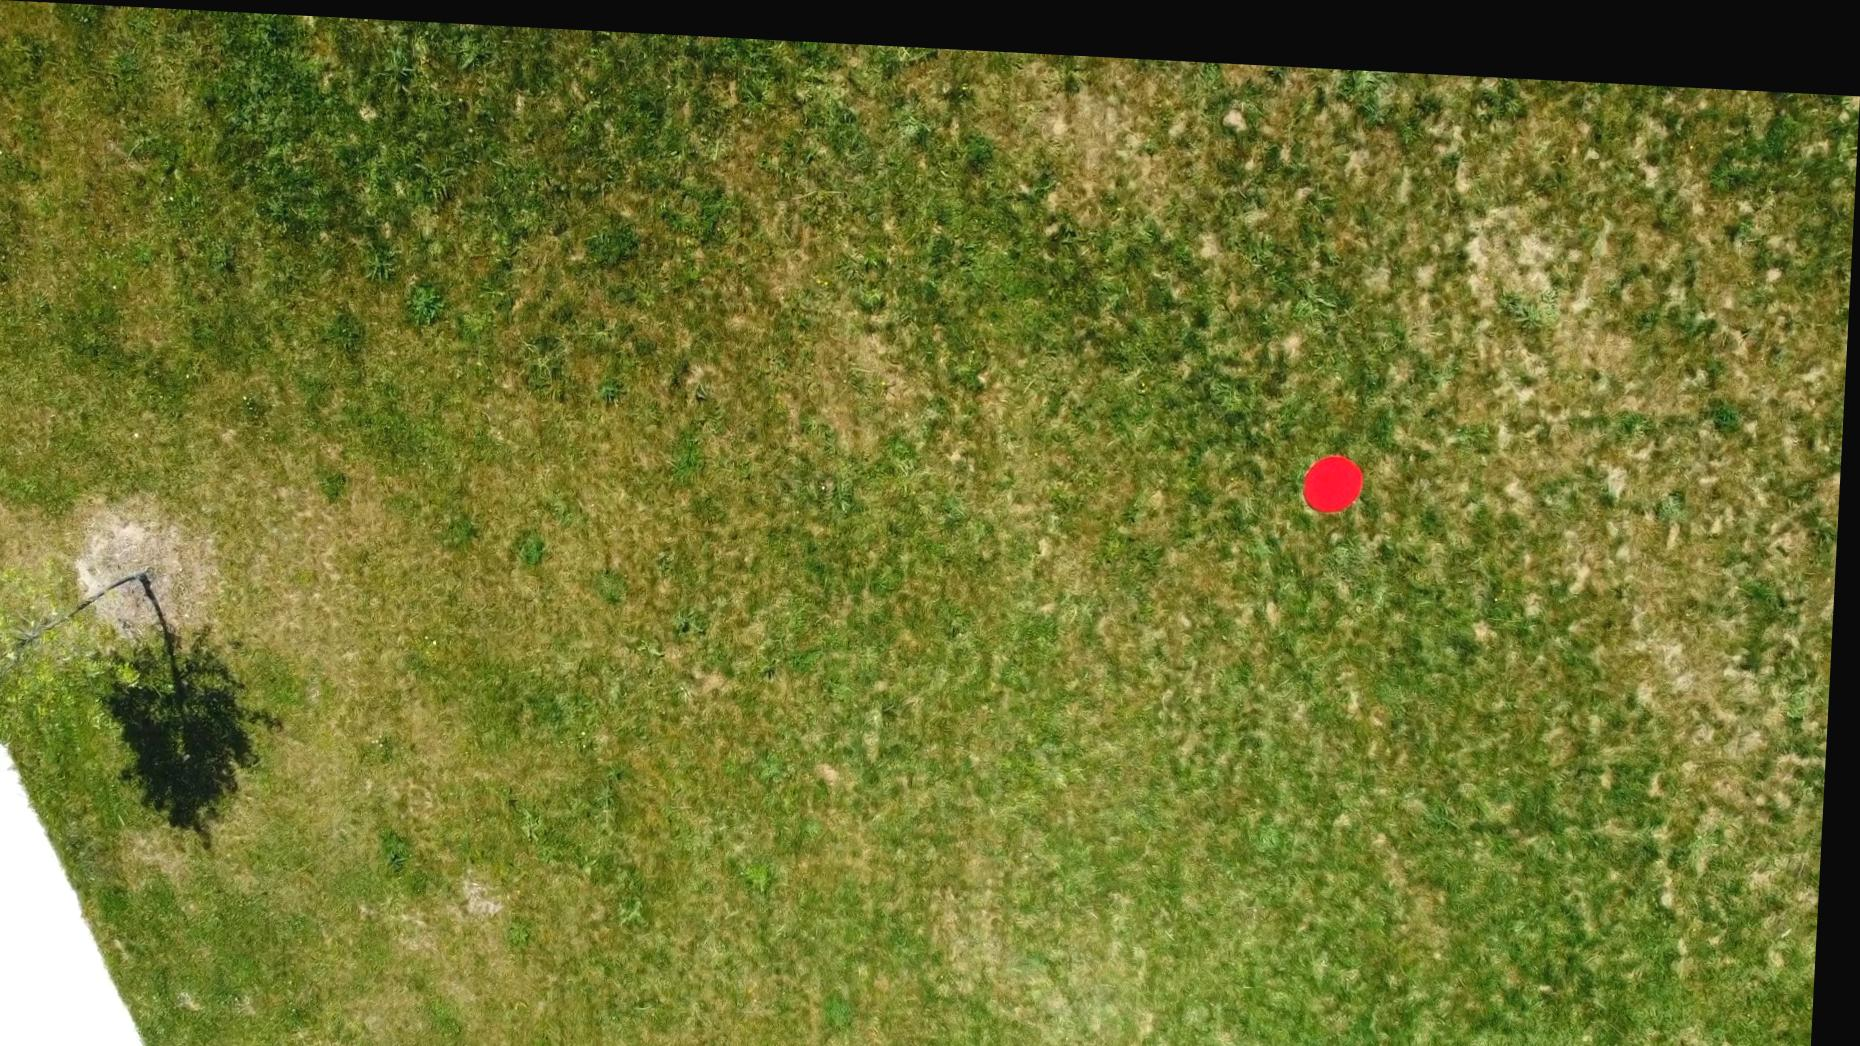Red: (1303, 438, 1371, 502)
